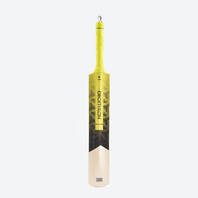bottom left: (83, 180, 94, 191)
bottom right: (106, 178, 116, 188)
top left: (81, 67, 94, 80)
top right: (106, 67, 118, 79)
